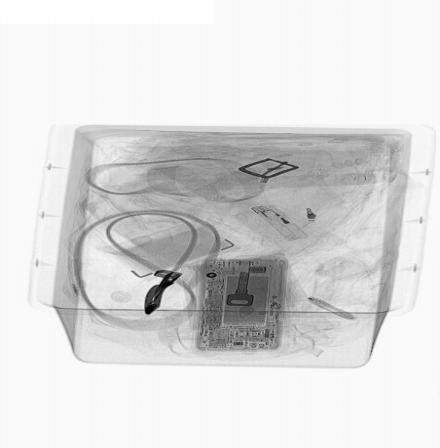Lighter: (248, 203, 313, 244)
